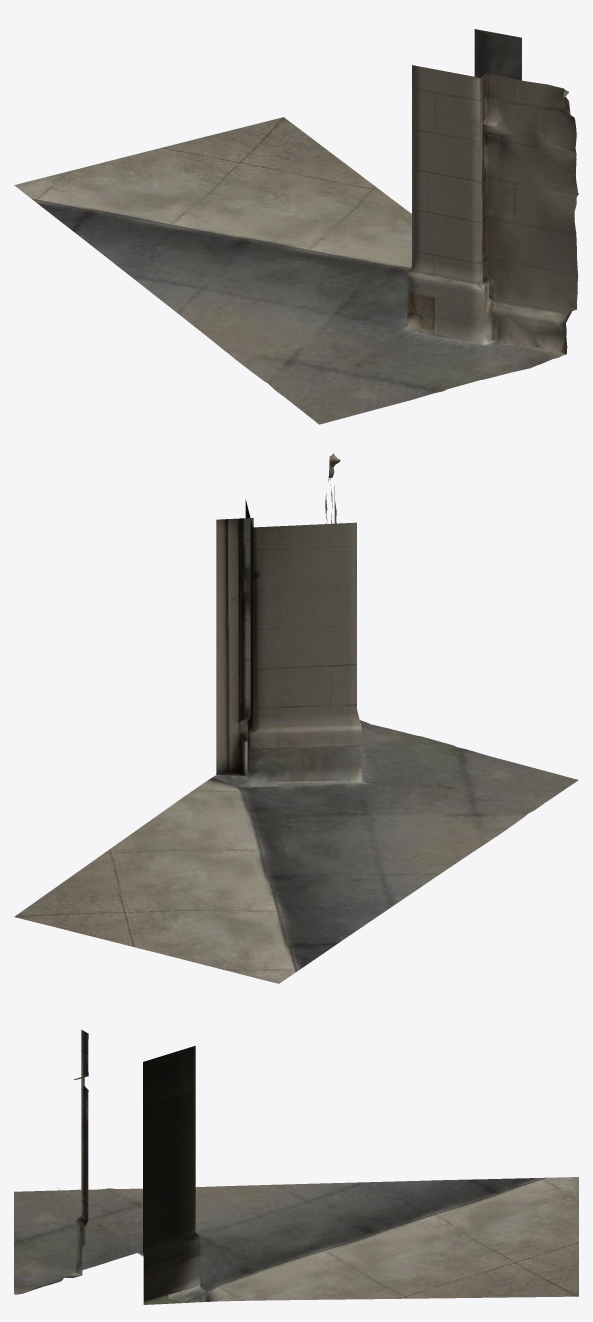
3 views of the same model, one above another, from view 1: azimuth 30°, elevation 25°; view 2: azimuth 150°, elevation 25°; view 3: azimuth 270°, elevation 25° (orthographic). The views are drawn at different scales.
Size of the model in its own units: 3.06 by 2.95 by 6.01.
Materials: 1 (1 with a texture image).
